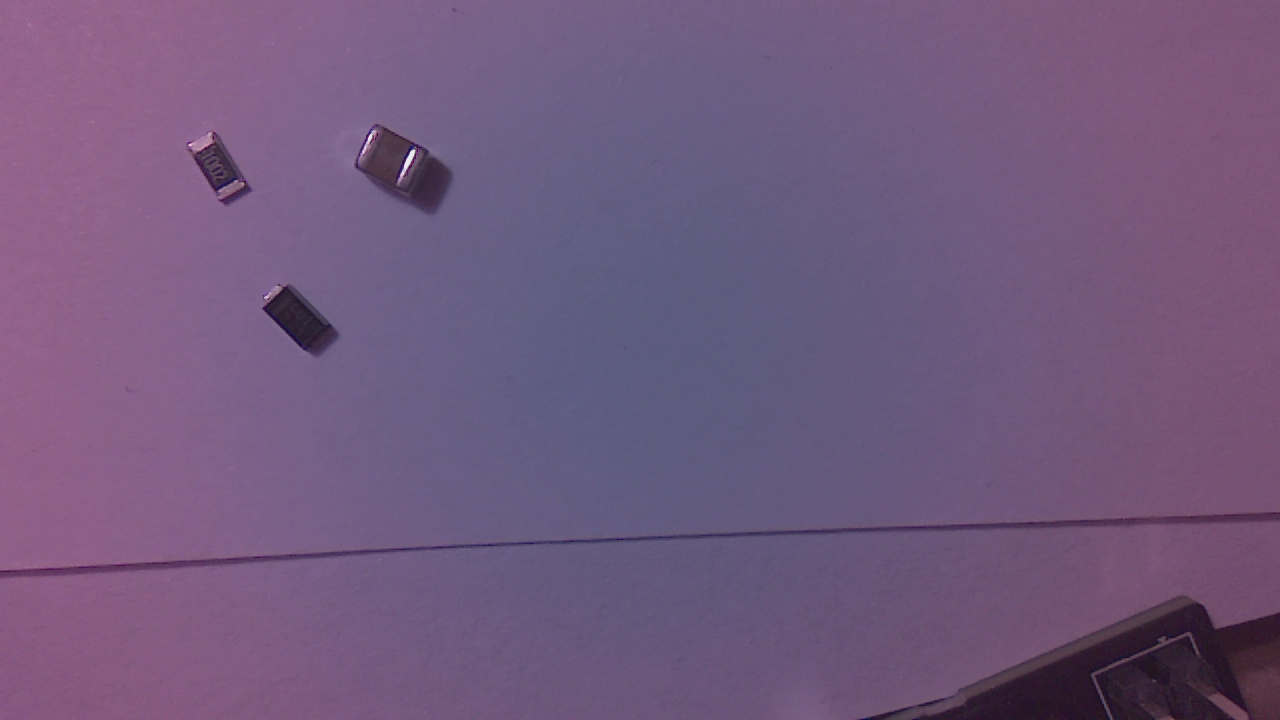Condensator: (358, 128, 441, 207)
Diode: (263, 286, 342, 359)
Resistor: (190, 130, 254, 207)
